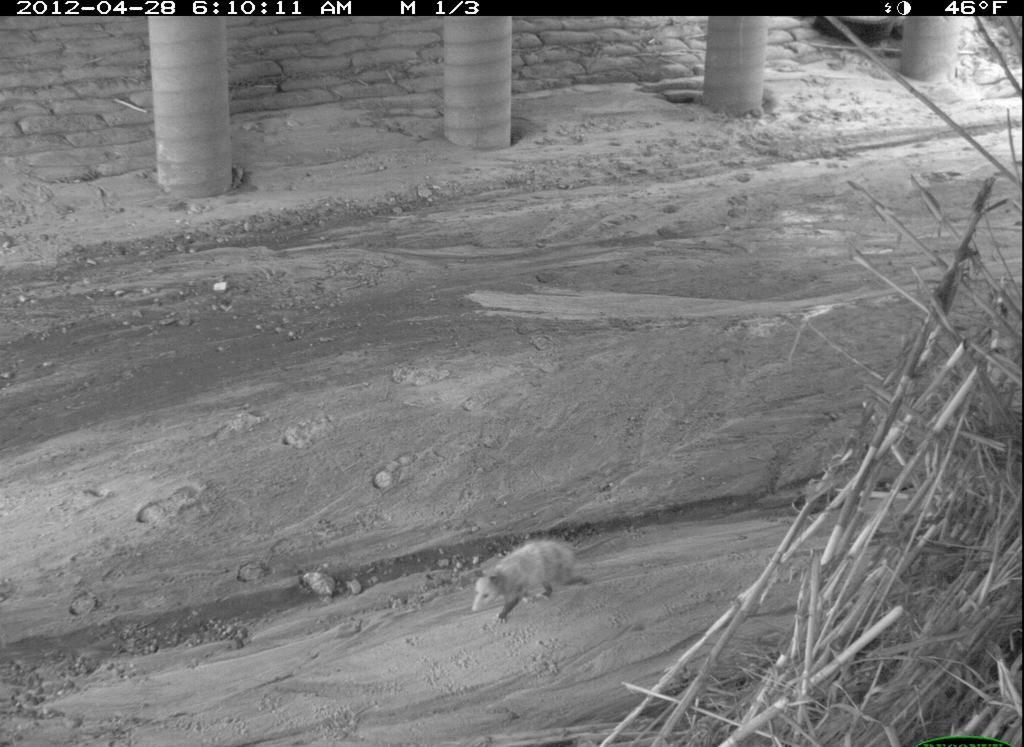opossum: (452, 531, 626, 640)
